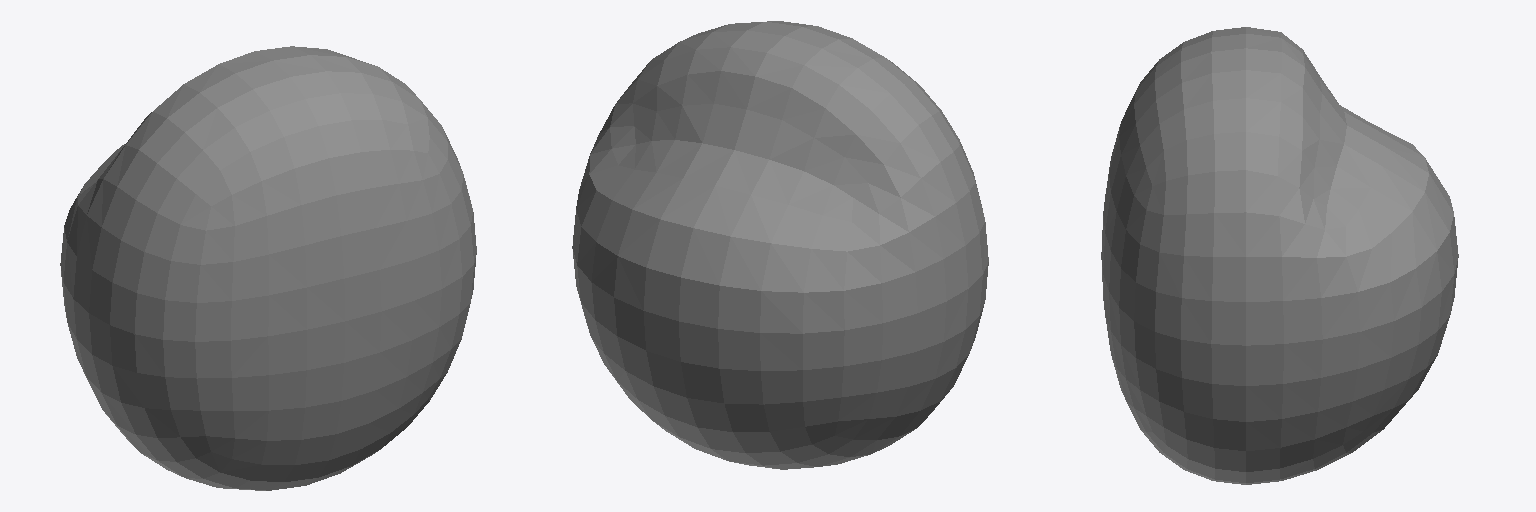
File: MeltIce000.obj
3 renders of one model, left to right at view 1: azimuth 30°, elevation 25°; view 2: azimuth 150°, elevation 25°; view 3: azimuth 270°, elevation 25°, orthographic.
Visible parts, largest first — view 1: pCube23__MeltIce00; view 2: pCube23__MeltIce00; view 3: pCube23__MeltIce00.
Part boxes in pixels (x1,y1,x2,y2): pCube23__MeltIce00: (60, 46, 476, 490); pCube23__MeltIce00: (572, 21, 988, 469); pCube23__MeltIce00: (1101, 27, 1458, 484).
Size of the model in its own units: 520 by 561 by 438.